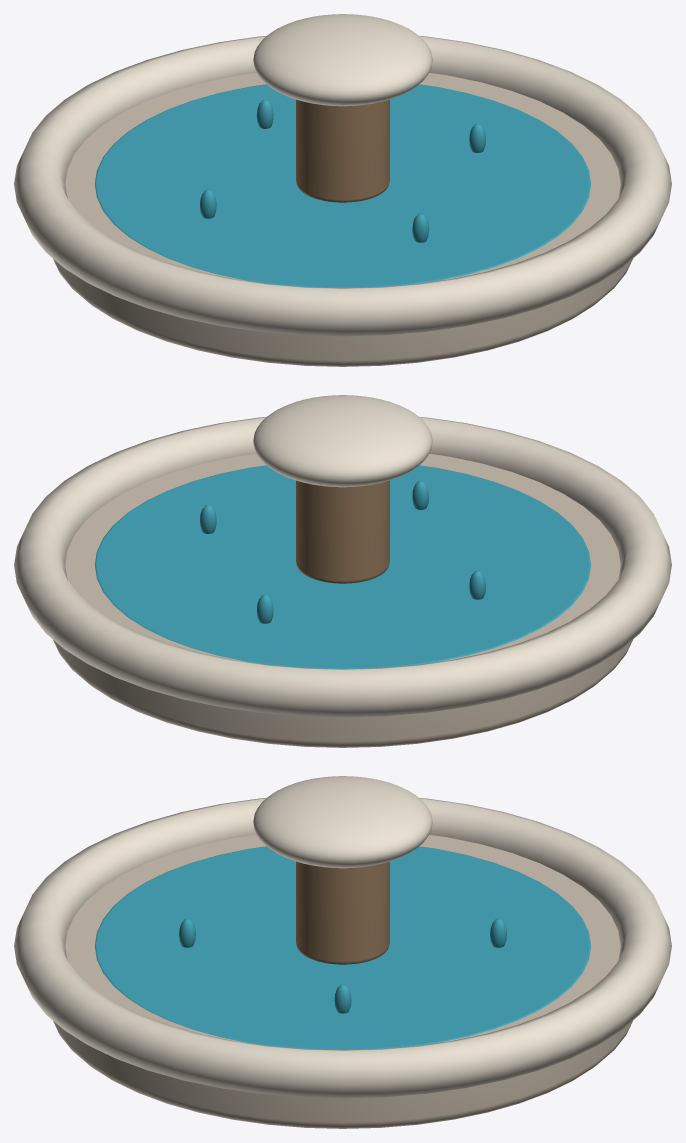
3 views of the same model, one above another, from view 1: azimuth 30°, elevation 25°; view 2: azimuth 150°, elevation 25°; view 3: azimuth 270°, elevation 25° (orthographic).
Parts seen in each view (by area): view 1: LOD0_FOUNTAIN_DISTRICT_Water, LOD0_FOUNTAIN_DISTRICT_SeatRing, LOD0_FOUNTAIN_DISTRICT_Basin, LOD0_FOUNTAIN_DISTRICT_Cap, LOD0_FOUNTAIN_DISTRICT_Stem; view 2: LOD0_FOUNTAIN_DISTRICT_Water, LOD0_FOUNTAIN_DISTRICT_SeatRing, LOD0_FOUNTAIN_DISTRICT_Basin, LOD0_FOUNTAIN_DISTRICT_Cap, LOD0_FOUNTAIN_DISTRICT_Stem; view 3: LOD0_FOUNTAIN_DISTRICT_Water, LOD0_FOUNTAIN_DISTRICT_SeatRing, LOD0_FOUNTAIN_DISTRICT_Basin, LOD0_FOUNTAIN_DISTRICT_Cap, LOD0_FOUNTAIN_DISTRICT_Stem.
Boxes of the visible parts, x1,y1,x2,y2 form: LOD0_FOUNTAIN_DISTRICT_Water: [95, 84, 590, 288]; LOD0_FOUNTAIN_DISTRICT_SeatRing: [14, 36, 671, 336]; LOD0_FOUNTAIN_DISTRICT_Basin: [53, 73, 632, 366]; LOD0_FOUNTAIN_DISTRICT_Cap: [253, 14, 432, 106]; LOD0_FOUNTAIN_DISTRICT_Stem: [296, 99, 389, 202]; LOD0_FOUNTAIN_DISTRICT_Water: [95, 465, 590, 669]; LOD0_FOUNTAIN_DISTRICT_SeatRing: [14, 417, 671, 717]; LOD0_FOUNTAIN_DISTRICT_Basin: [53, 454, 632, 747]; LOD0_FOUNTAIN_DISTRICT_Cap: [253, 395, 432, 487]; LOD0_FOUNTAIN_DISTRICT_Stem: [296, 480, 389, 583]; LOD0_FOUNTAIN_DISTRICT_Water: [95, 846, 590, 1050]; LOD0_FOUNTAIN_DISTRICT_SeatRing: [14, 798, 671, 1098]; LOD0_FOUNTAIN_DISTRICT_Basin: [53, 835, 632, 1128]; LOD0_FOUNTAIN_DISTRICT_Cap: [253, 776, 432, 868]; LOD0_FOUNTAIN_DISTRICT_Stem: [296, 861, 389, 964].
Size of what is drawn, in the model's own units: 7.7 by 2.74 by 7.7.
